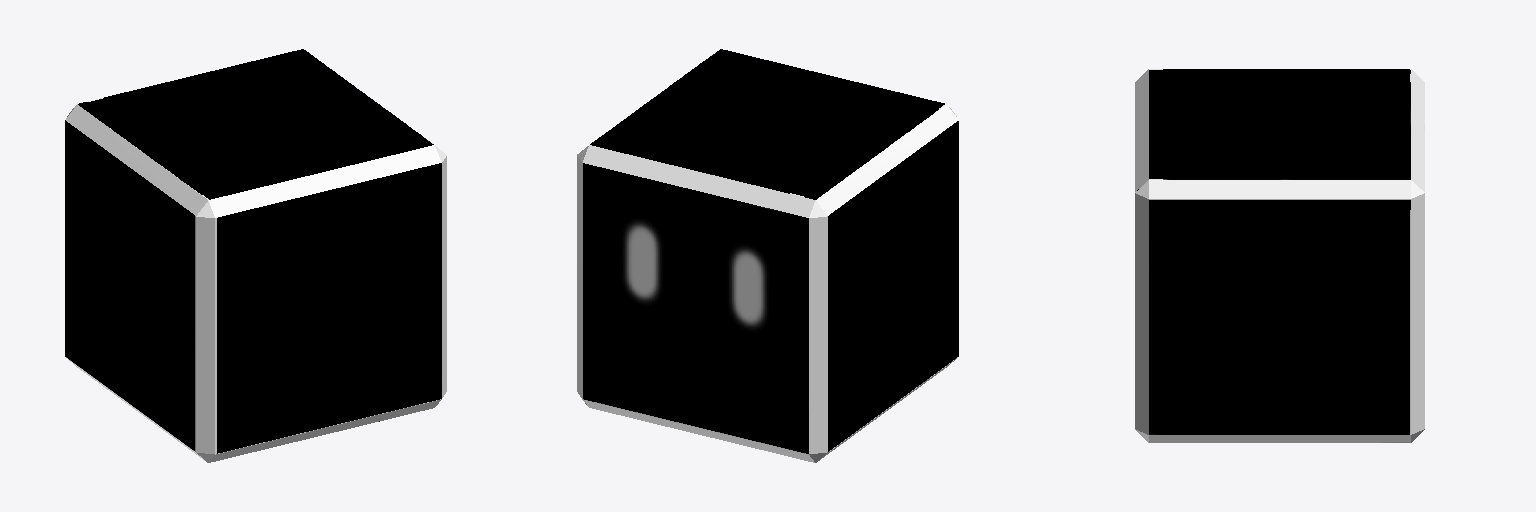
The picture shows the model from 3 angles: view 1: azimuth 30°, elevation 25°; view 2: azimuth 150°, elevation 25°; view 3: azimuth 270°, elevation 25°; orthographic projection.
Visible parts, largest first — view 1: Cube; view 2: Cube; view 3: Cube.
Boxes of the visible parts, box(x1,y1,x2,y2) form: Cube: box(65, 49, 446, 462); Cube: box(577, 49, 958, 462); Cube: box(1135, 69, 1424, 442).
Bounding box in the file's own units: 2 × 2 × 2.
1 materials, 1 textured.